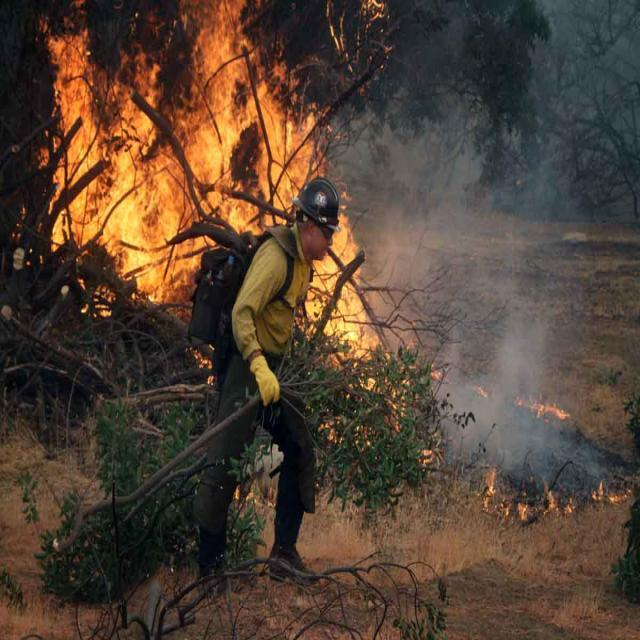Fire: (44, 20, 382, 360)
Smoke: (404, 128, 544, 423)
